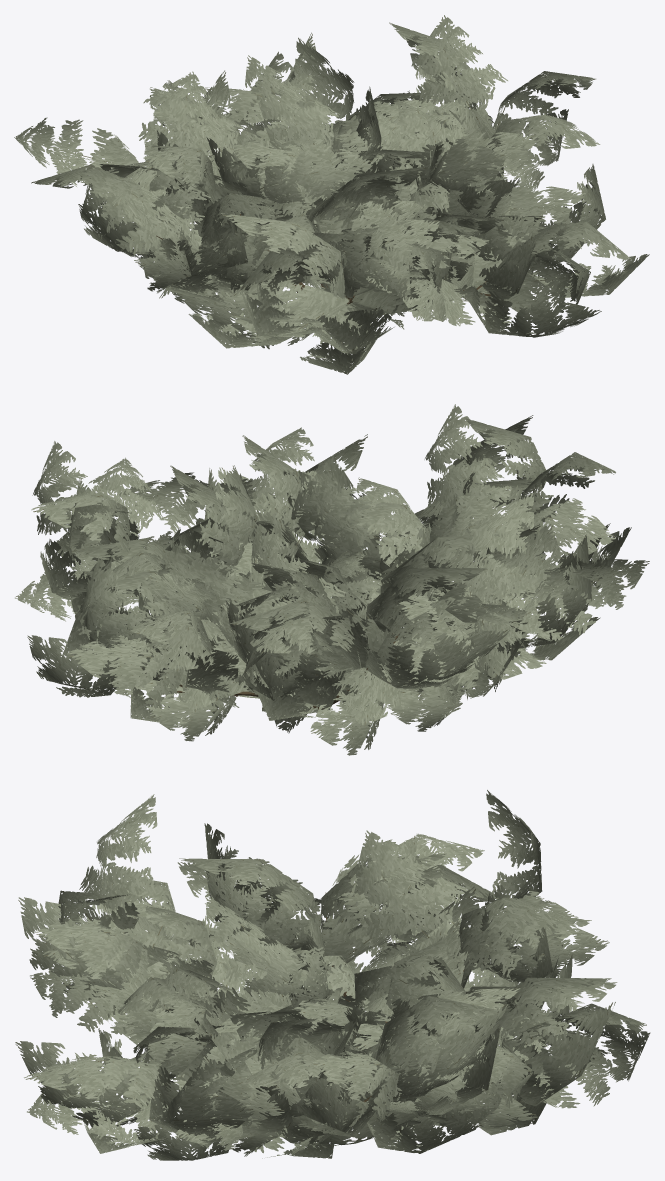
File: SM_CN_Sage_C_LOD1.glb
The picture shows the model from 3 angles, top to bottom: view 1: azimuth 30°, elevation 25°; view 2: azimuth 150°, elevation 25°; view 3: azimuth 270°, elevation 25°; orthographic projection. The views are drawn at different scales.
Visible parts, largest first — view 1: SM_CN_Sage_C_LOD1; view 2: SM_CN_Sage_C_LOD1; view 3: SM_CN_Sage_C_LOD1.
Boxes of the visible parts, box(x1,y1,x2,y2) form: SM_CN_Sage_C_LOD1: box(14, 15, 649, 374); SM_CN_Sage_C_LOD1: box(15, 404, 649, 755); SM_CN_Sage_C_LOD1: box(15, 790, 650, 1160).
Bounding box in the file's own units: 0.838 × 0.34 × 0.84.
2 materials, 2 textured.
